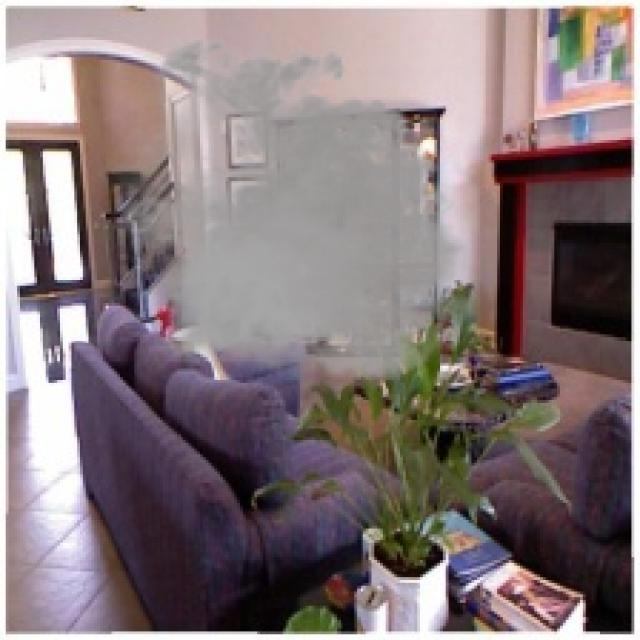Smoke: (97, 26, 489, 394)
